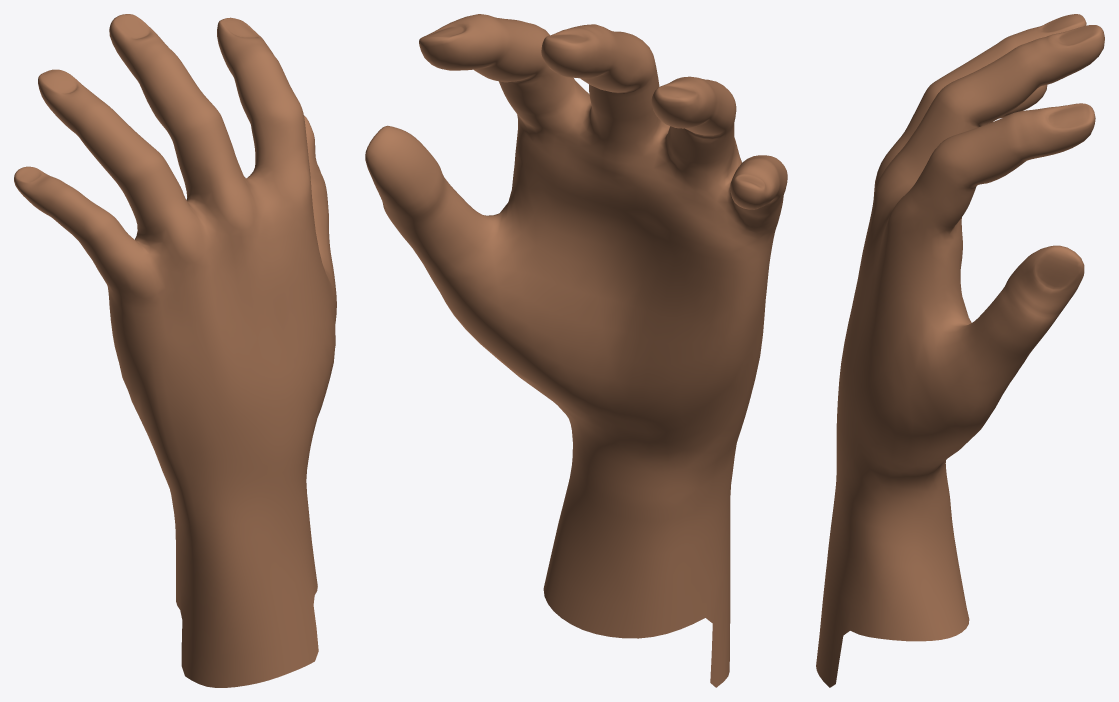
The model's file is hand_open.glb.
3 renders of one model, left to right at view 1: azimuth 30°, elevation 25°; view 2: azimuth 150°, elevation 25°; view 3: azimuth 270°, elevation 25°, orthographic. The views are drawn at different scales.
Bounding box in the file's own units: 0.1395 × 0.2541 × 0.1048.
